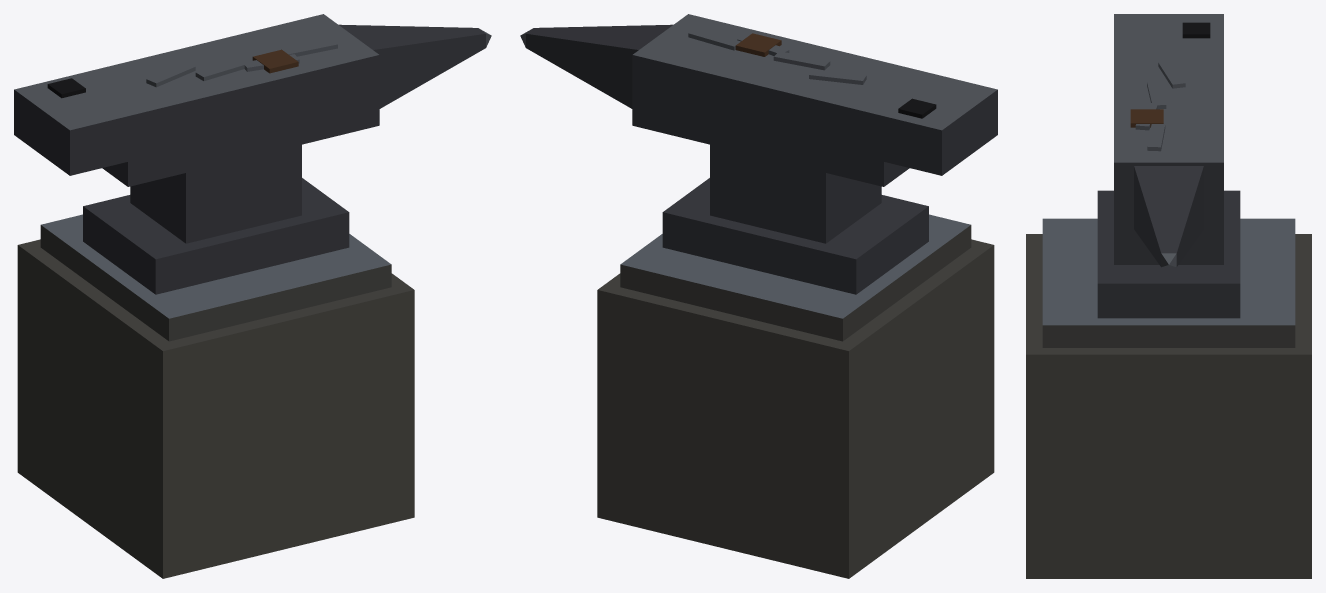
File: anvil-block.glb
3 views of the same model, side by side, from view 1: azimuth 30°, elevation 25°; view 2: azimuth 150°, elevation 25°; view 3: azimuth 270°, elevation 25° (orthographic).
Visible parts, largest first — view 1: AnvilBlock; view 2: AnvilBlock; view 3: AnvilBlock.
Boxes of the visible parts, x1,y1,x2,y2 form: AnvilBlock: [14, 14, 491, 578]; AnvilBlock: [520, 14, 997, 578]; AnvilBlock: [1026, 14, 1311, 578].
Bounding box in the file's own units: 0.93 × 0.854 × 0.52.
Materials: 1 (1 with a texture image).
